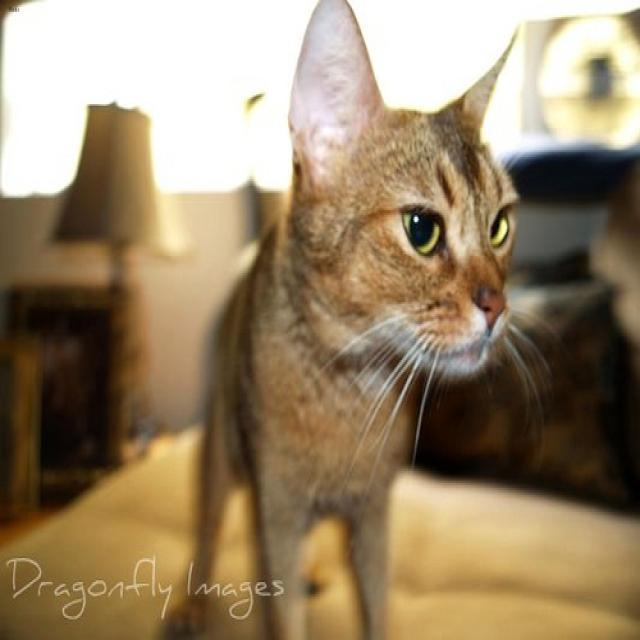Abyssinian: (287, 0, 518, 377)
